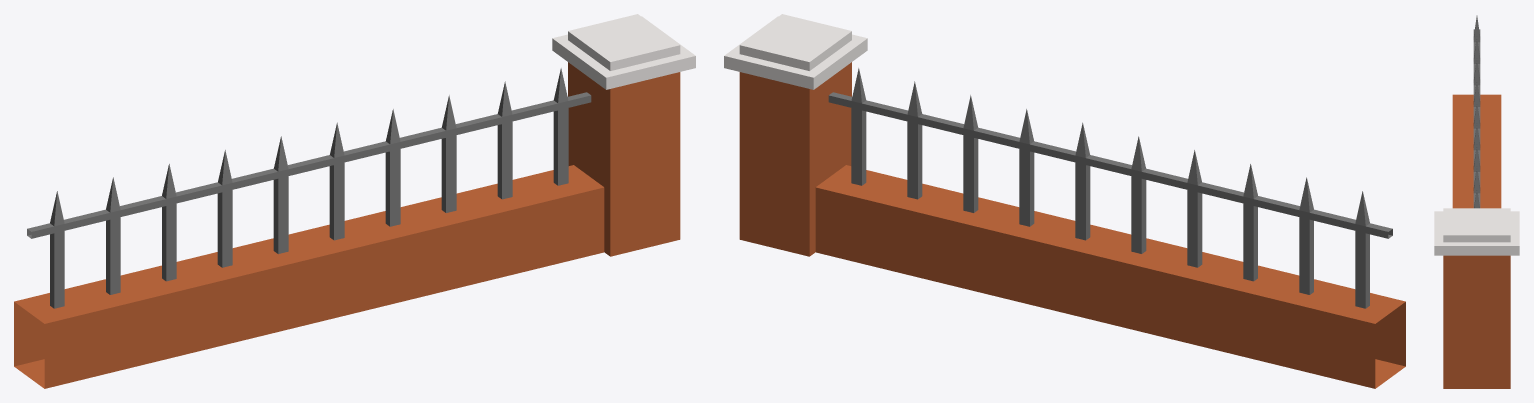
Rendered from fence.fbx.
3 renders of one model, left to right at view 1: azimuth 30°, elevation 25°; view 2: azimuth 150°, elevation 25°; view 3: azimuth 270°, elevation 25°, orthographic. The views are drawn at different scales.
Visible parts, largest first — view 1: Fence; view 2: Fence; view 3: Fence.
Part boxes in pixels (left/top/right/bottom): Fence: left=14, top=14, right=695, bottom=388; Fence: left=724, top=14, right=1405, bottom=388; Fence: left=1434, top=15, right=1519, bottom=388.
Size of the model in its own units: 914 by 266 by 134.
